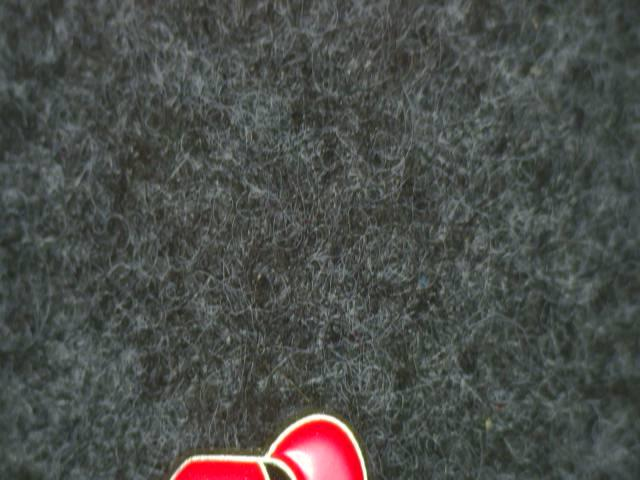Red-Hat: (141, 399, 390, 480)
